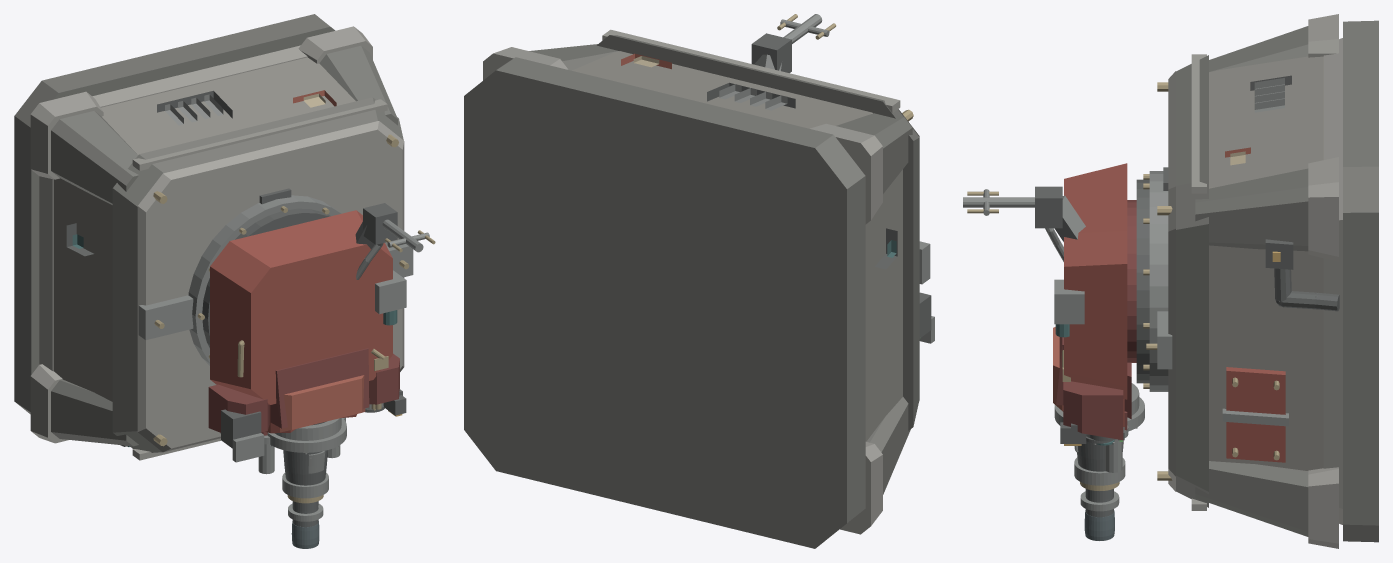
The model's file is martian_heavy_weapon_bunker_source_geometry_v10.glb.
The picture shows the model from 3 angles, left to right: view 1: azimuth 30°, elevation 25°; view 2: azimuth 150°, elevation 25°; view 3: azimuth 270°, elevation 25°; orthographic projection. The views are drawn at different scales.
Visible parts, largest first — view 1: 05_top_concrete_skin, 16_martian_red_turret_armor, 03_monolithic_bunker_mass, 01_foundation_granular_ferrocrete, 04_upper_blast_cap, 02_lower_blast_raft, 06_corner_armor_buttress_WN, 06_corner_armor_buttress_WS, 13_ring_lower_bearing_seat, 19_roof_to_mantlet_transition, 19_mantlet_upper_brow, 07_corner_buttress_foot_WN (+19 smaller); view 2: 01_foundation_granular_ferrocrete, 03_monolithic_bunker_mass, 04_upper_blast_cap, 07_corner_buttress_foot_WN, 06_corner_armor_buttress_WN, 06_corner_armor_buttress_WS, 07_corner_buttress_foot_WS, 54_north_slab_anchor_strip, 31_antenna_base, 06_corner_armor_buttress_EN, 07_corner_buttress_foot_EN; view 3: 03_monolithic_bunker_mass, 01_foundation_granular_ferrocrete, 04_upper_blast_cap, 16_martian_red_turret_armor, 06_corner_armor_buttress_EN, 02_lower_blast_raft, 06_corner_armor_buttress_ES, 55_east_wall_controller_armor, 13_ring_lower_bearing_seat, 05_top_concrete_skin, 07_corner_buttress_foot_EN, 18_turret_front_cheek_E (+20 smaller).
Part boxes in pixels (x1=…): 05_top_concrete_skin: x1=137, y1=121, x2=404, y2=452; 16_martian_red_turret_armor: x1=210, y1=210, x2=392, y2=404; 03_monolithic_bunker_mass: x1=53, y1=57, x2=355, y2=401; 01_foundation_granular_ferrocrete: x1=14, y1=14, x2=335, y2=414; 04_upper_blast_cap: x1=112, y1=97, x2=403, y2=452; 02_lower_blast_raft: x1=39, y1=45, x2=307, y2=371; 06_corner_armor_buttress_WN: x1=51, y1=111, x2=138, y2=204; 06_corner_armor_buttress_WS: x1=51, y1=379, x2=138, y2=446; 13_ring_lower_bearing_seat: x1=188, y1=195, x2=341, y2=365; 19_roof_to_mantlet_transition: x1=270, y1=348, x2=369, y2=428; 19_mantlet_upper_brow: x1=280, y1=375, x2=365, y2=432; 07_corner_buttress_foot_WN: x1=30, y1=91, x2=103, y2=179; 01_foundation_granular_ferrocrete: x1=464, y1=57, x2=865, y2=548; 03_monolithic_bunker_mass: x1=572, y1=51, x2=902, y2=441; 04_upper_blast_cap: x1=597, y1=35, x2=919, y2=430; 07_corner_buttress_foot_WN: x1=810, y1=123, x2=882, y2=224; 06_corner_armor_buttress_WN: x1=836, y1=113, x2=912, y2=193; 06_corner_armor_buttress_WS: x1=866, y1=397, x2=910, y2=494; 07_corner_buttress_foot_WS: x1=840, y1=442, x2=882, y2=534; 54_north_slab_anchor_strip: x1=602, y1=29, x2=900, y2=112; 31_antenna_base: x1=751, y1=33, x2=791, y2=73; 06_corner_armor_buttress_EN: x1=529, y1=44, x2=618, y2=70; 07_corner_buttress_foot_EN: x1=483, y1=47, x2=568, y2=80; 03_monolithic_bunker_mass: x1=1209, y1=56, x2=1323, y2=470; 01_foundation_granular_ferrocrete: x1=1343, y1=20, x2=1378, y2=542; 04_upper_blast_cap: x1=1176, y1=55, x2=1208, y2=507; 16_martian_red_turret_armor: x1=1064, y1=163, x2=1127, y2=399; 06_corner_armor_buttress_EN: x1=1195, y1=168, x2=1308, y2=251; 02_lower_blast_raft: x1=1323, y1=38, x2=1342, y2=524; 06_corner_armor_buttress_ES: x1=1195, y1=461, x2=1308, y2=536; 55_east_wall_controller_armor: x1=1226, y1=367, x2=1285, y2=462; 13_ring_lower_bearing_seat: x1=1149, y1=171, x2=1168, y2=391; 05_top_concrete_skin: x1=1168, y1=71, x2=1175, y2=491; 07_corner_buttress_foot_EN: x1=1308, y1=157, x2=1338, y2=262; 18_turret_front_cheek_E: x1=1063, y1=381, x2=1123, y2=440.
Bounding box in the file's own units: 3.04 × 3.53 × 3.01.
